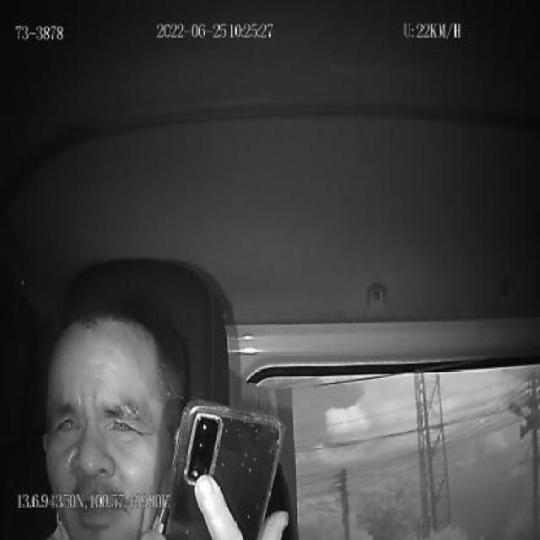phone: (164, 400, 284, 540)
